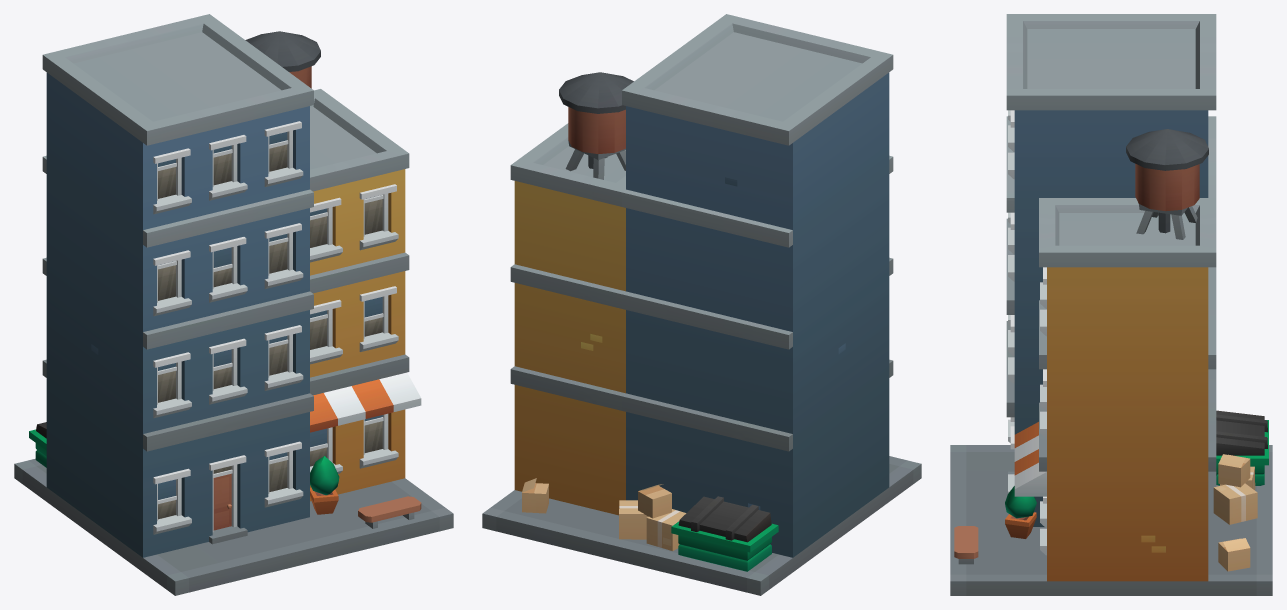
The model's file is shop-blue.glb.
The picture shows the model from 3 angles, left to right: view 1: azimuth 30°, elevation 25°; view 2: azimuth 150°, elevation 25°; view 3: azimuth 270°, elevation 25°; orthographic projection.
Visible parts, largest first — view 1: building_H; view 2: building_H; view 3: building_H.
Part boxes in pixels (<box>): building_H: <box>14,14,453,595</box>; building_H: <box>482,14,921,595</box>; building_H: <box>950,14,1272,595</box>.
Size of the model in its own units: 2.01 by 3.05 by 2.
Materials: 1 (1 with a texture image).
